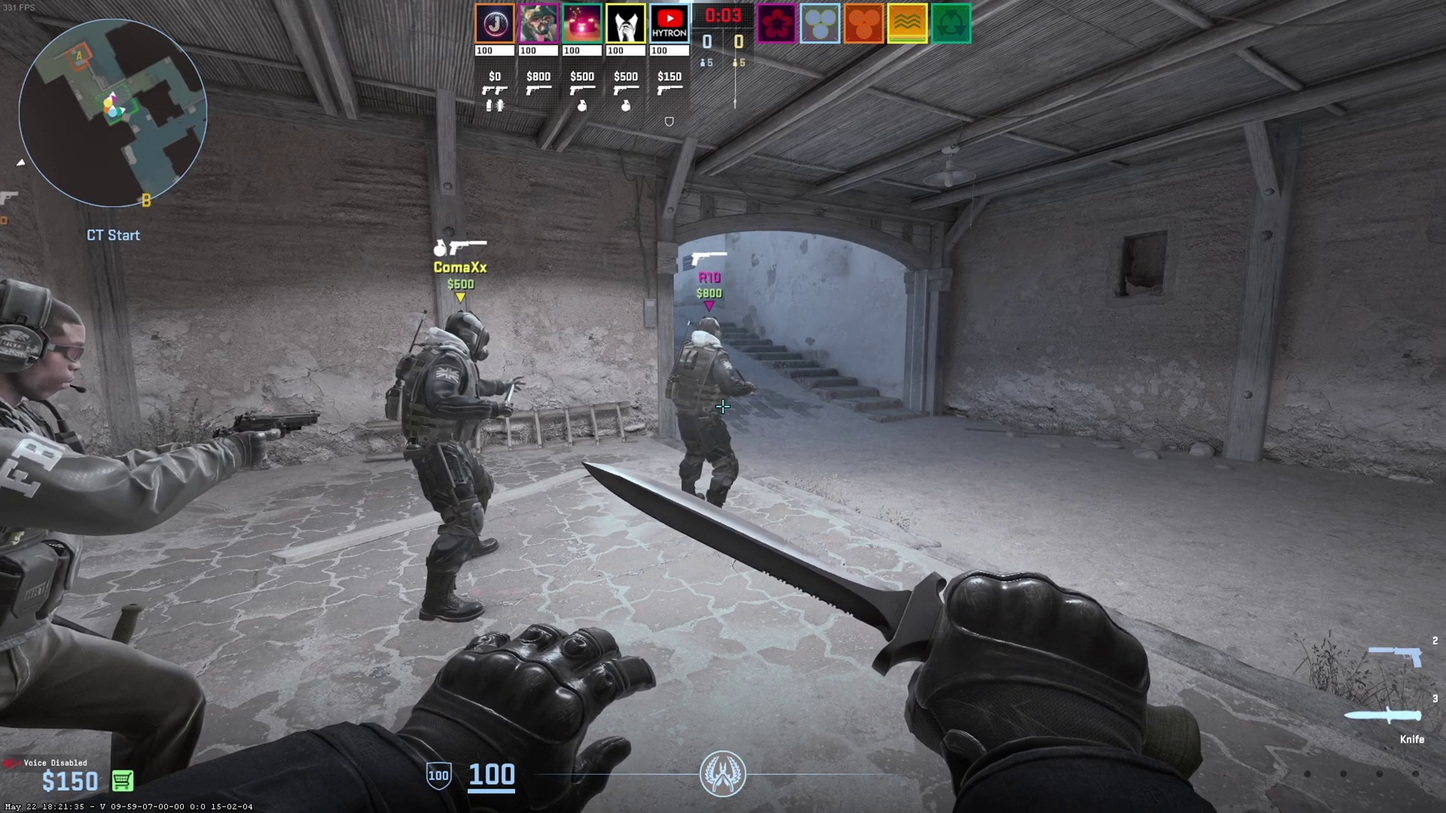CT: (0, 281, 190, 775), (405, 311, 500, 618), (675, 317, 736, 501)
